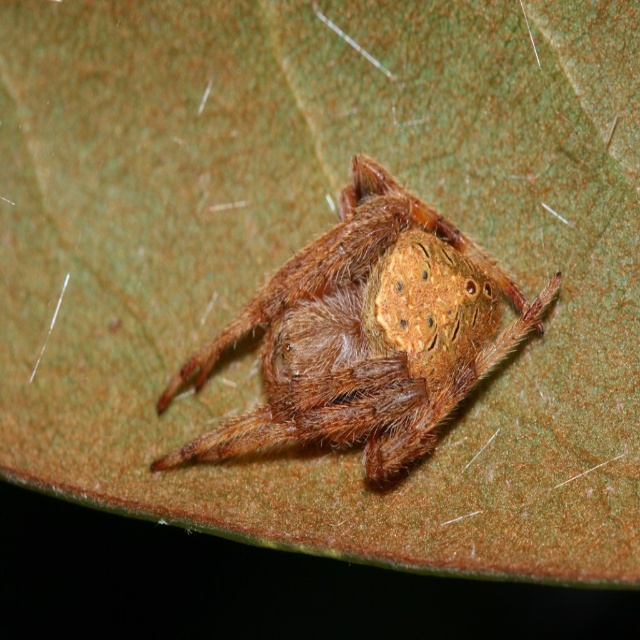Spider: (149, 150, 562, 492)
